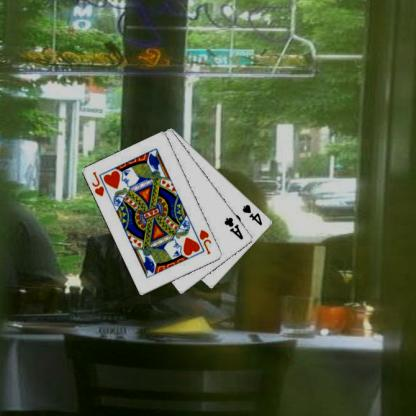4S: (240, 201, 263, 226)
AC: (222, 215, 244, 241)
JH: (197, 227, 213, 256), (90, 169, 106, 197)
